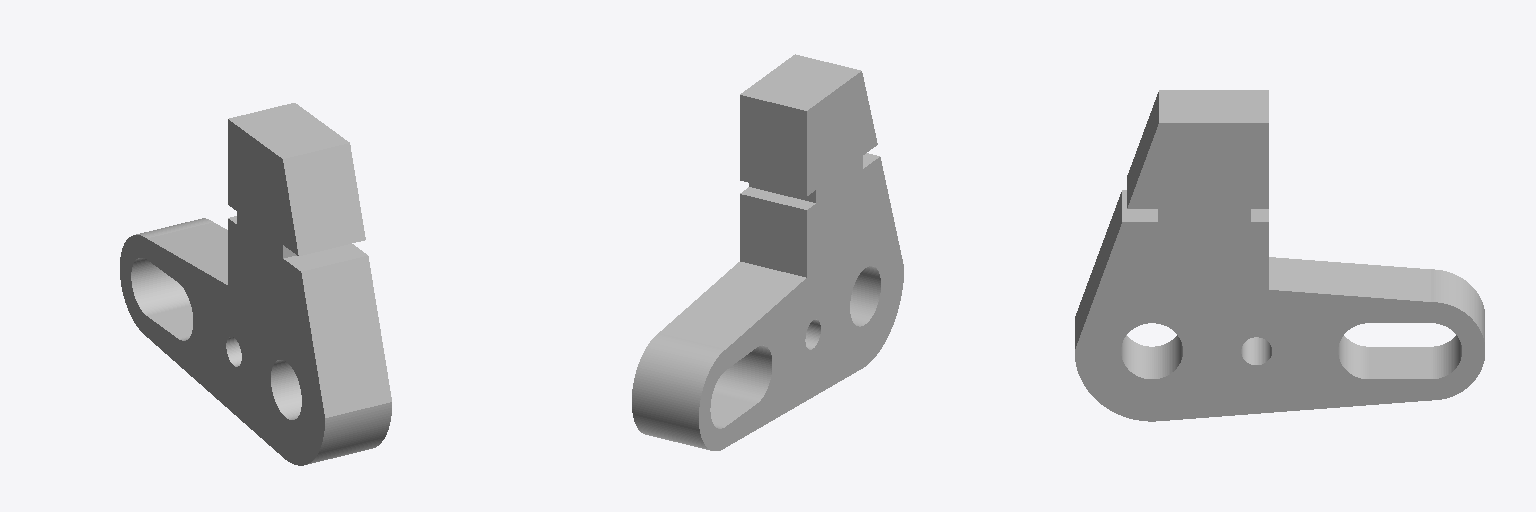
Rendered from Dribber_Holder_Right.obj.
3 renders of one model, left to right at view 1: azimuth 30°, elevation 25°; view 2: azimuth 150°, elevation 25°; view 3: azimuth 270°, elevation 25°, orthographic.
Visible parts, largest first — view 1: Dribber_Holder_Right; view 2: Dribber_Holder_Right; view 3: Dribber_Holder_Right.
Part boxes in pixels (bbox=[...]): Dribber_Holder_Right: bbox=[120, 103, 391, 465]; Dribber_Holder_Right: bbox=[632, 54, 903, 450]; Dribber_Holder_Right: bbox=[1075, 90, 1484, 421].
Bounding box in the file's own units: 5 × 21.23 × 26.5.